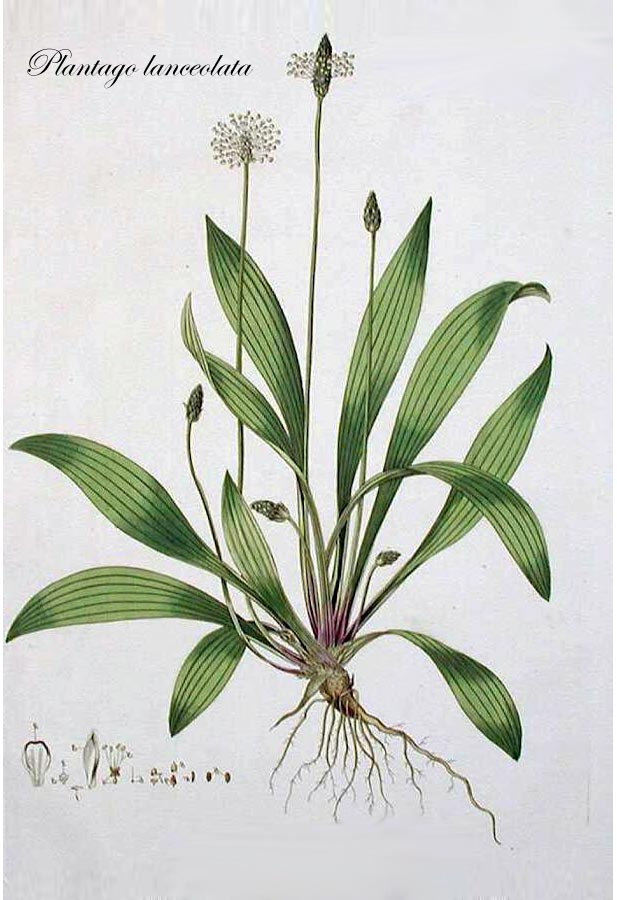buckhorn plantain: (22, 32, 551, 777)
